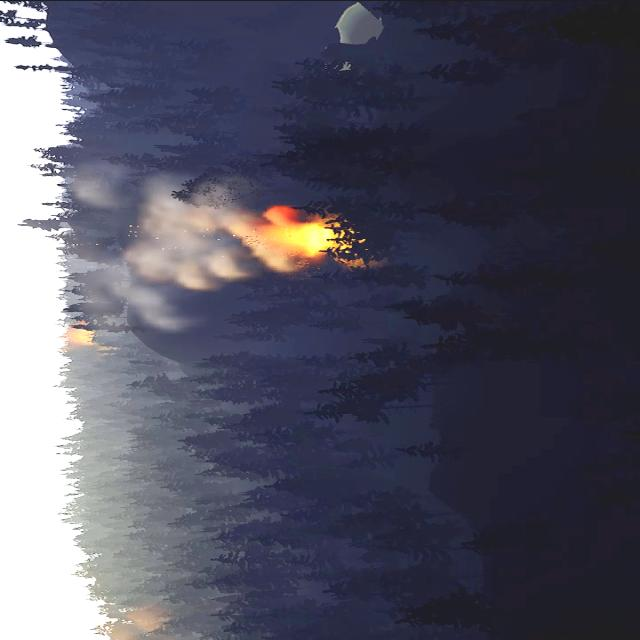fire: (263, 210, 339, 260), (60, 318, 95, 344)
smoke: (54, 153, 302, 323), (96, 609, 168, 640)
